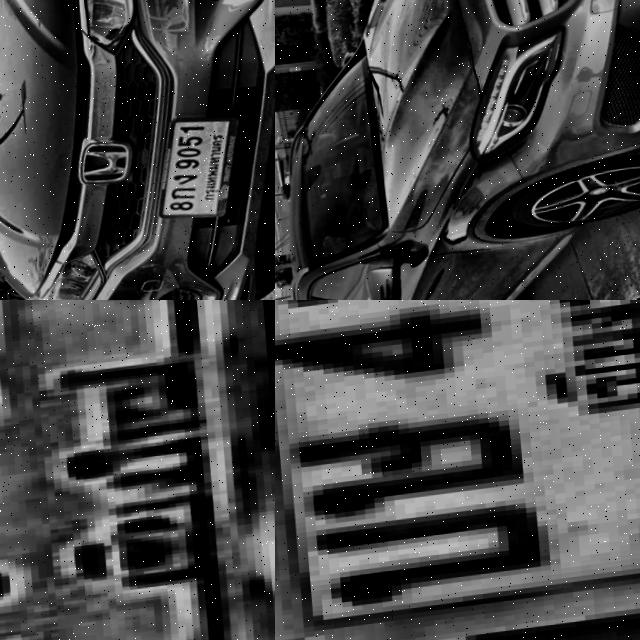license-plate: (275, 300, 640, 640), (0, 300, 275, 640), (142, 112, 253, 235)
